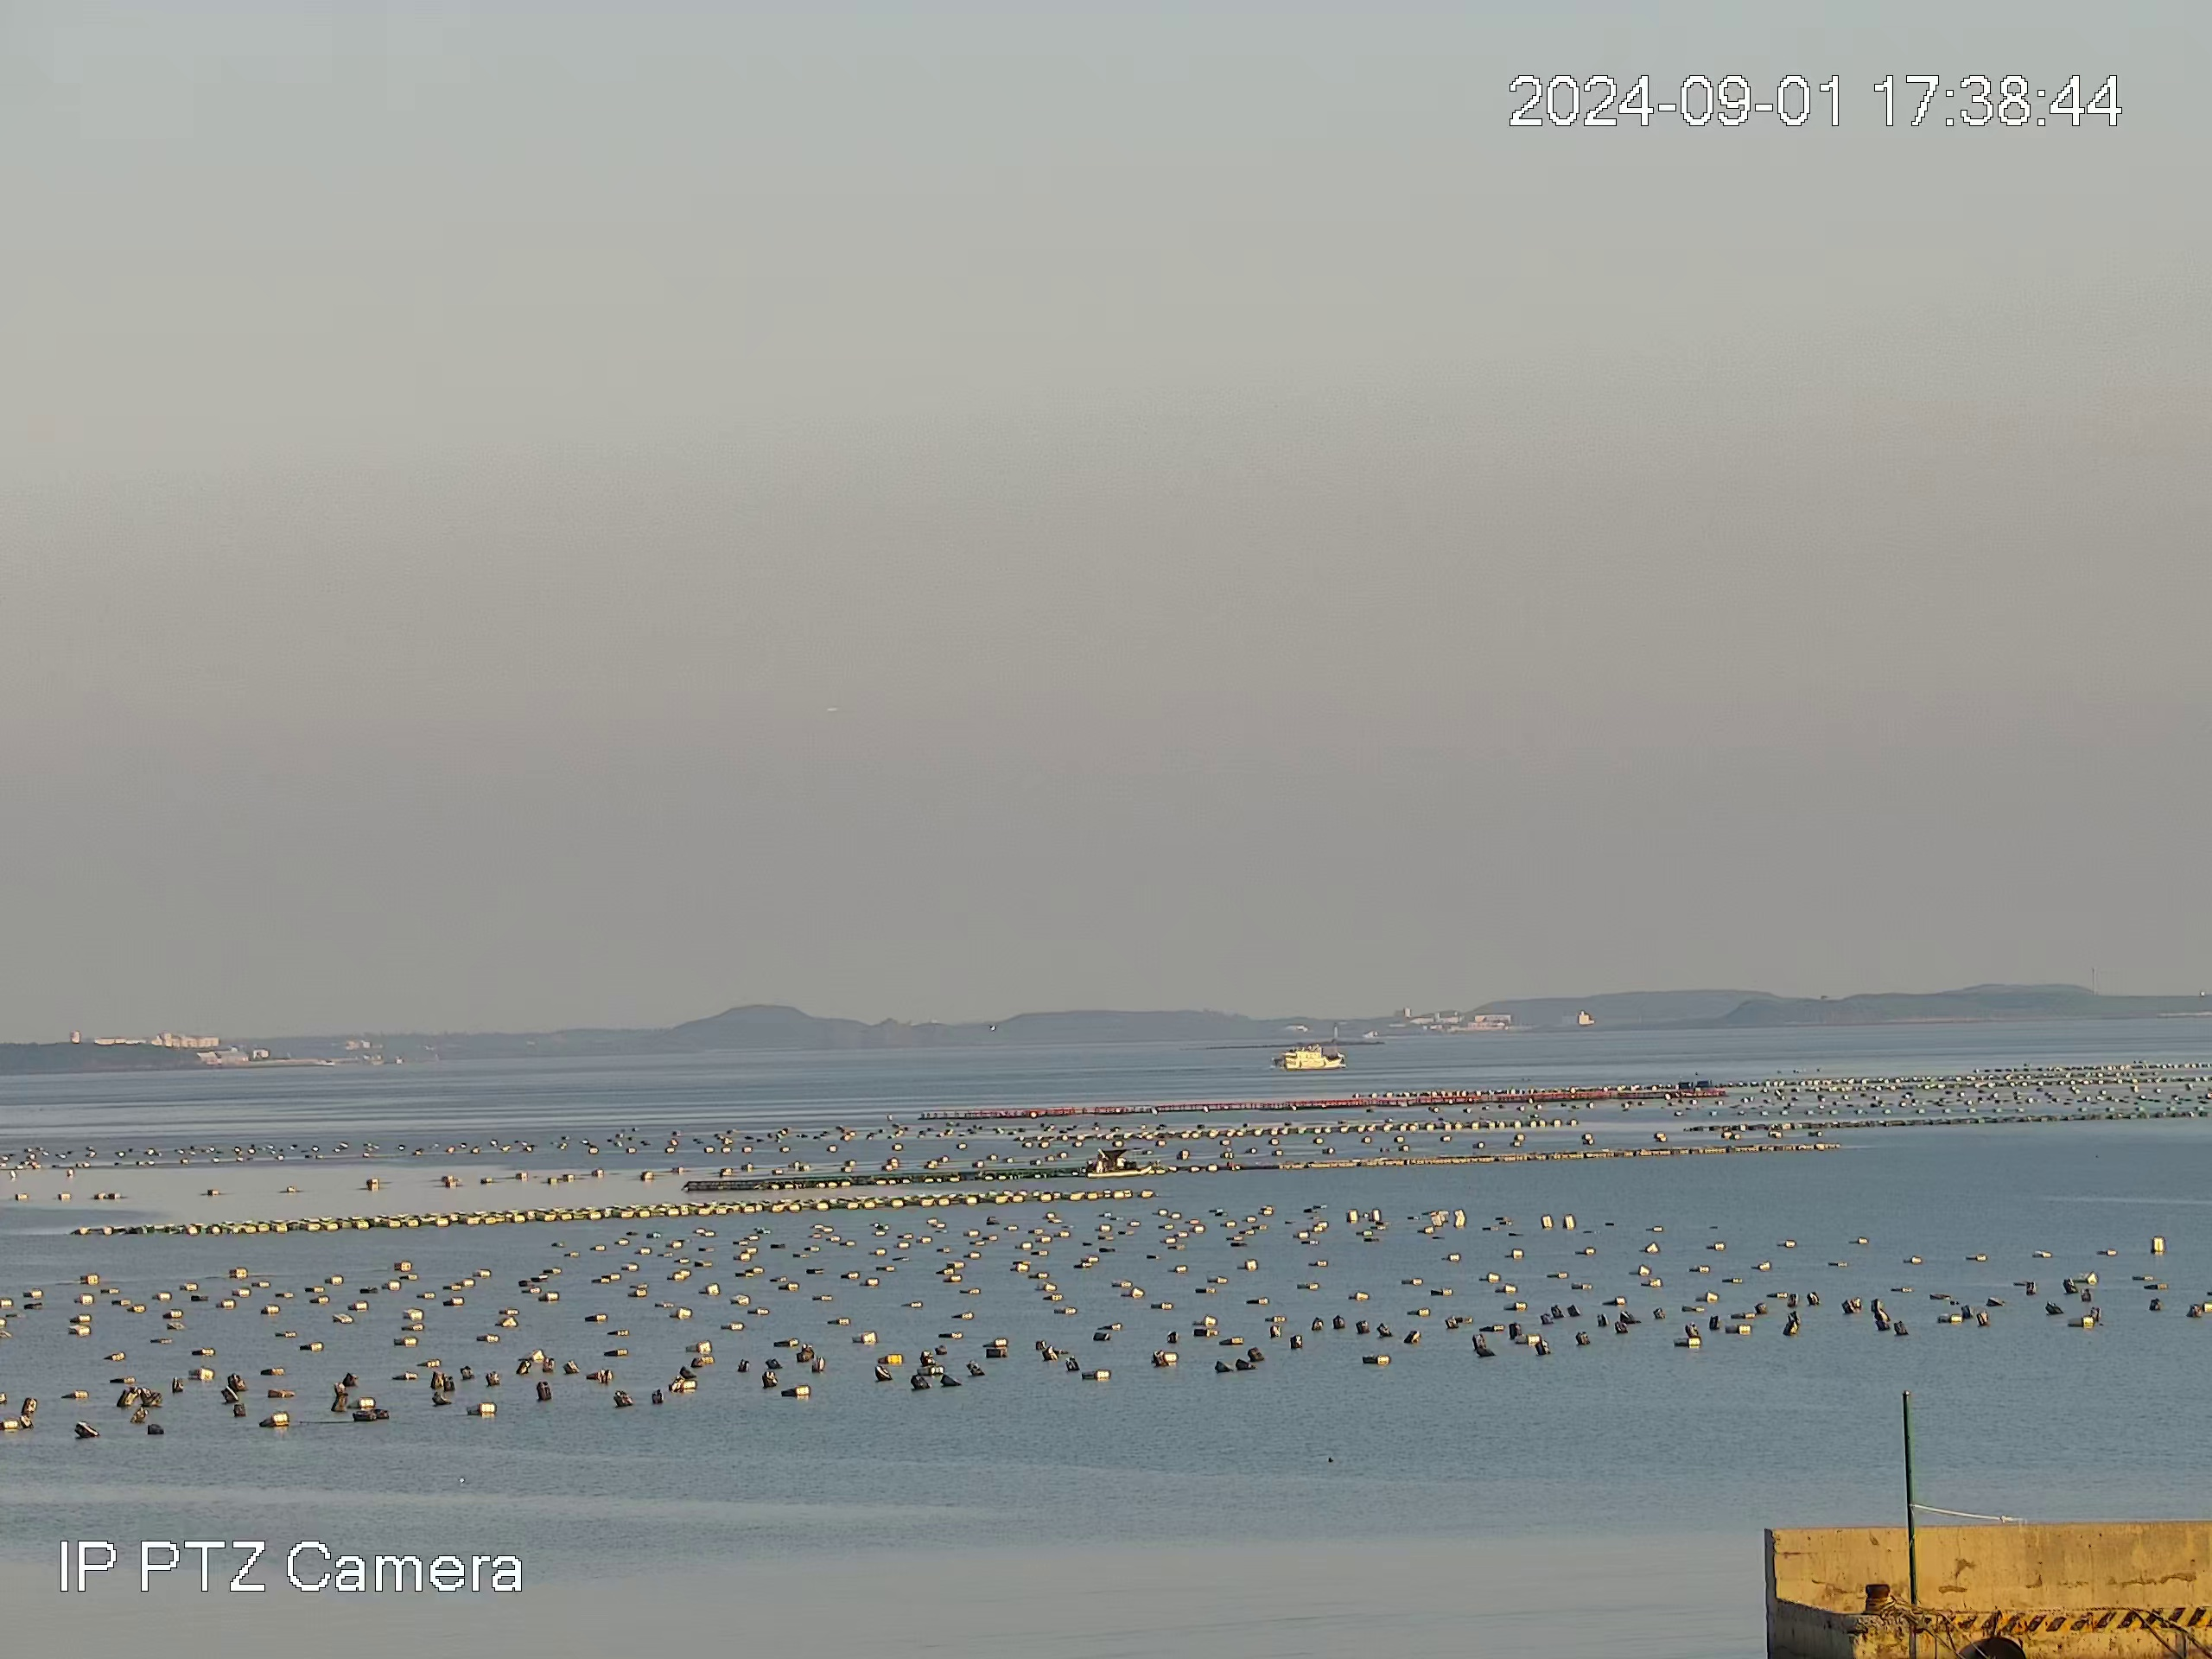boat: (1083, 1145, 1155, 1180), (1275, 1042, 1346, 1072)
